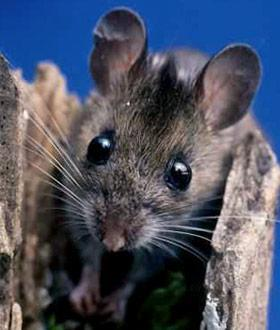rat: (63, 6, 261, 319)
